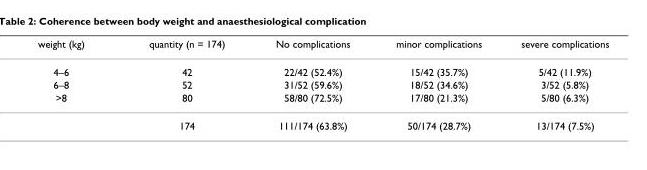table: (36, 37, 608, 131)
table column: (115, 37, 249, 131), (372, 37, 500, 131), (249, 37, 372, 131), (500, 37, 608, 131), (36, 37, 115, 131)
table column header: (36, 37, 608, 57)
table row: (36, 90, 608, 111), (36, 37, 608, 57), (36, 57, 608, 77), (36, 111, 608, 131), (36, 77, 608, 90)
table spanning cell: (36, 90, 115, 131)
